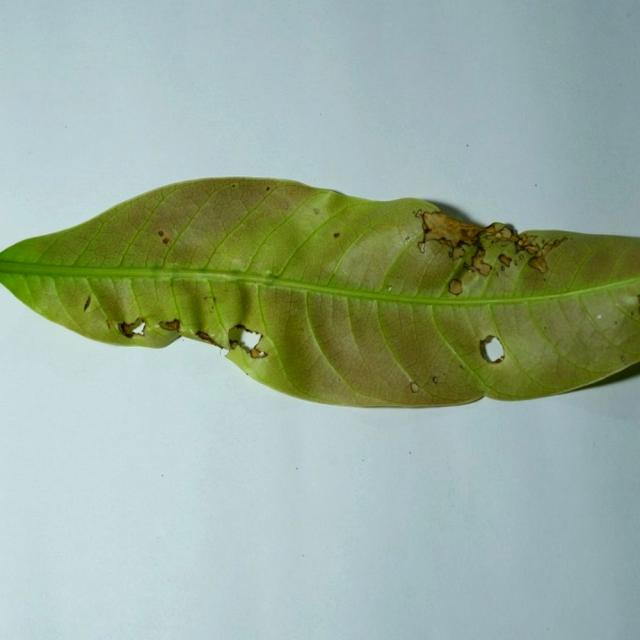Anthracnose: (204, 288, 232, 352), (230, 325, 266, 356), (478, 333, 509, 368), (443, 272, 475, 303), (118, 317, 147, 338), (83, 295, 91, 312), (417, 241, 427, 253), (410, 382, 420, 393), (432, 376, 439, 384), (162, 238, 169, 245), (313, 208, 320, 215), (620, 355, 626, 362), (333, 232, 340, 238), (387, 285, 392, 291)
Mango: (0, 179, 639, 412)
